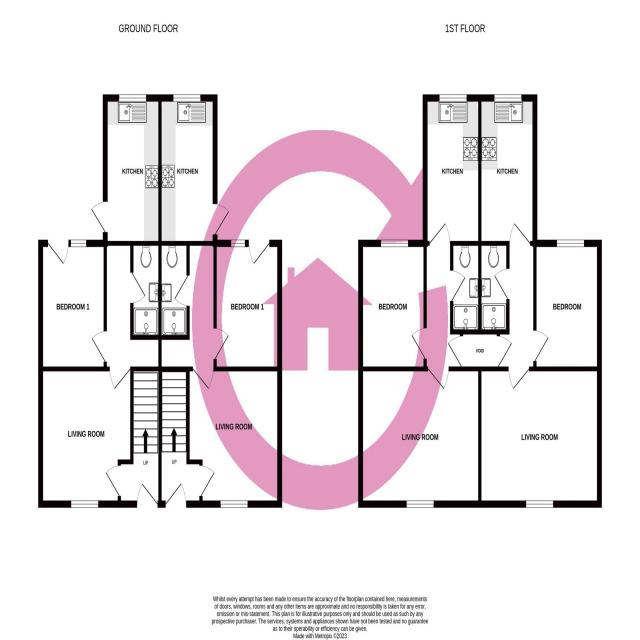DOOR: (426, 366, 450, 392), (212, 202, 230, 236), (446, 335, 464, 368), (165, 481, 187, 508), (213, 327, 231, 360), (90, 200, 108, 233), (493, 267, 510, 301), (130, 271, 147, 305), (450, 269, 467, 303), (507, 366, 530, 391), (136, 482, 158, 508), (47, 239, 69, 265), (248, 239, 270, 265), (410, 327, 427, 360), (90, 330, 107, 363), (173, 274, 190, 307), (429, 221, 451, 246), (192, 366, 214, 391), (109, 366, 131, 391), (497, 334, 513, 368), (509, 222, 531, 246), (199, 464, 215, 497), (105, 464, 121, 497), (533, 330, 549, 362)
ROOM: (357, 365, 483, 509), (478, 366, 602, 509), (185, 366, 283, 508), (38, 366, 134, 508), (90, 93, 162, 247), (158, 94, 230, 247), (532, 239, 603, 372), (358, 239, 428, 372), (38, 239, 108, 372), (212, 239, 282, 372), (478, 94, 538, 247), (422, 94, 482, 247)
WINDOW: (525, 499, 554, 509), (406, 499, 435, 509), (70, 499, 99, 509), (220, 499, 248, 509), (556, 239, 585, 248), (381, 239, 409, 248), (439, 93, 467, 102), (119, 93, 147, 102), (494, 94, 522, 102), (173, 94, 201, 102), (70, 239, 87, 248), (231, 239, 246, 247)
